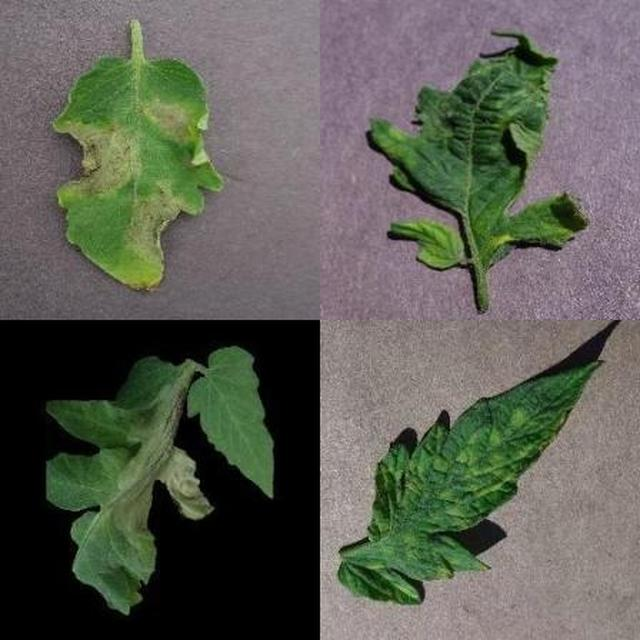Late Blight Leaf: (130, 213, 640, 640)
